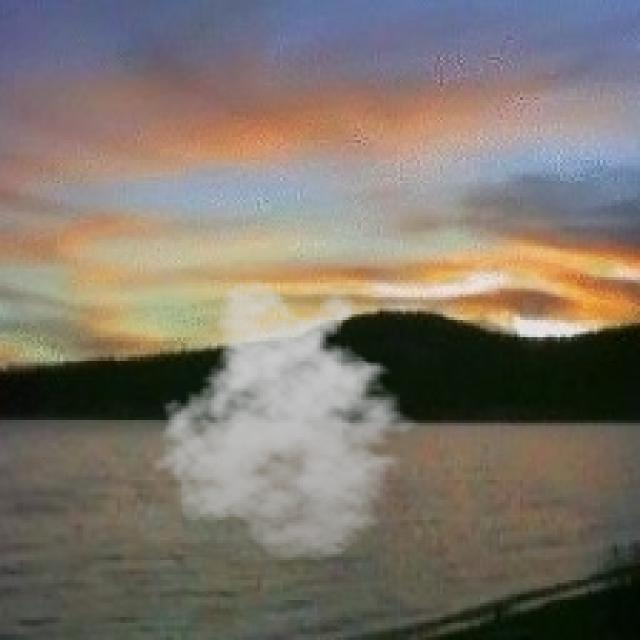Smoke: (152, 280, 434, 563)
